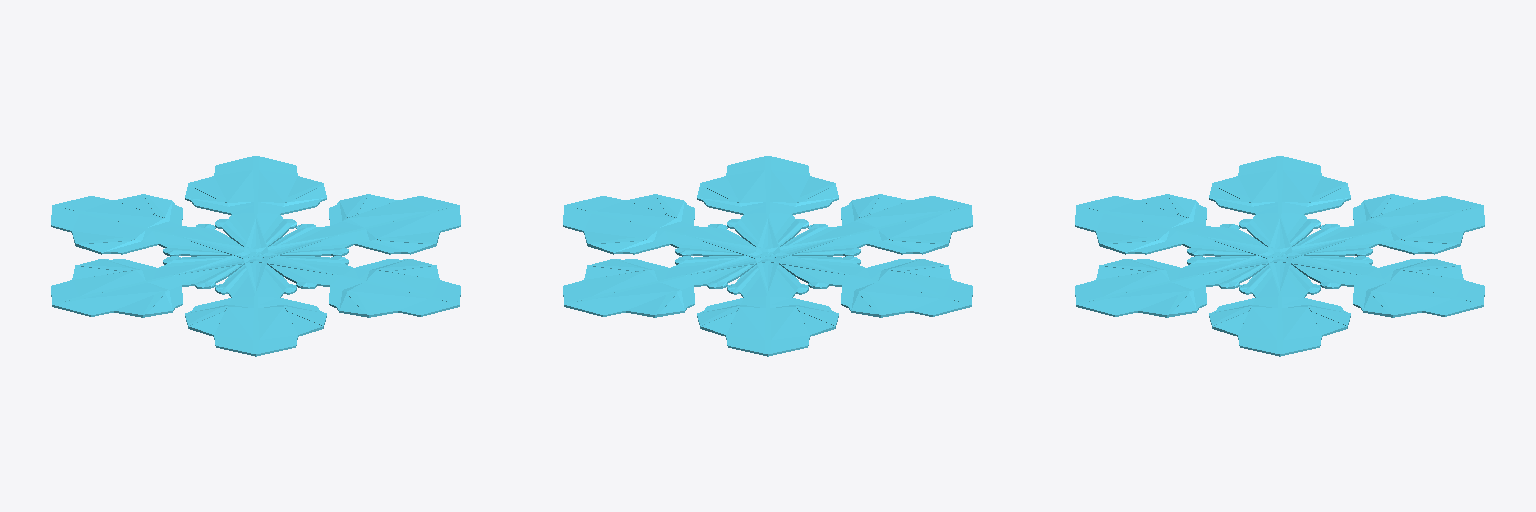
Rendered from Fulg6.obj.
3 views of the same model, side by side, from view 1: azimuth 30°, elevation 25°; view 2: azimuth 150°, elevation 25°; view 3: azimuth 270°, elevation 25° (orthographic).
Parts seen in each view (by area): view 1: Plane; view 2: Plane; view 3: Plane.
Part boxes in pixels (x1,y1,x2,y2): Plane: (51, 156, 460, 356); Plane: (563, 156, 972, 356); Plane: (1075, 156, 1484, 356).
Bounding box in the file's own units: 2.34 × 0.0182 × 2.04.